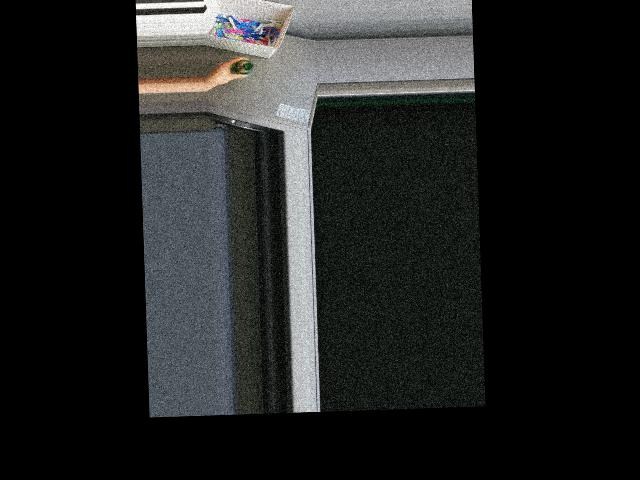beer: (232, 59, 254, 75)
